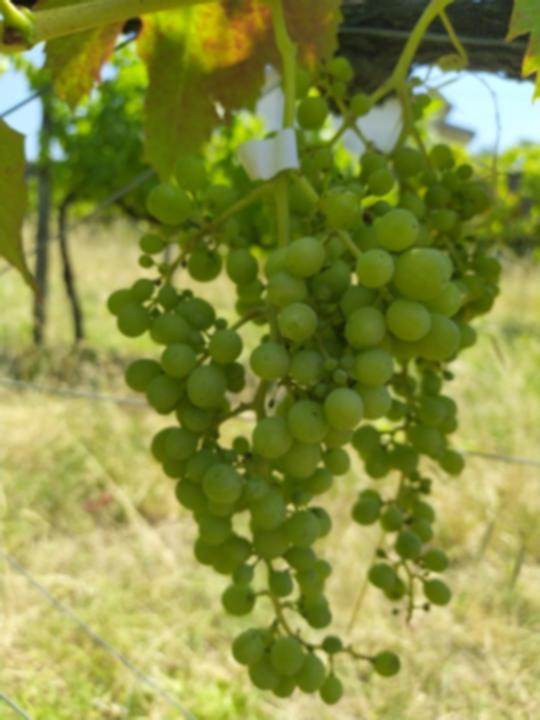grape: (99, 152, 465, 707)
